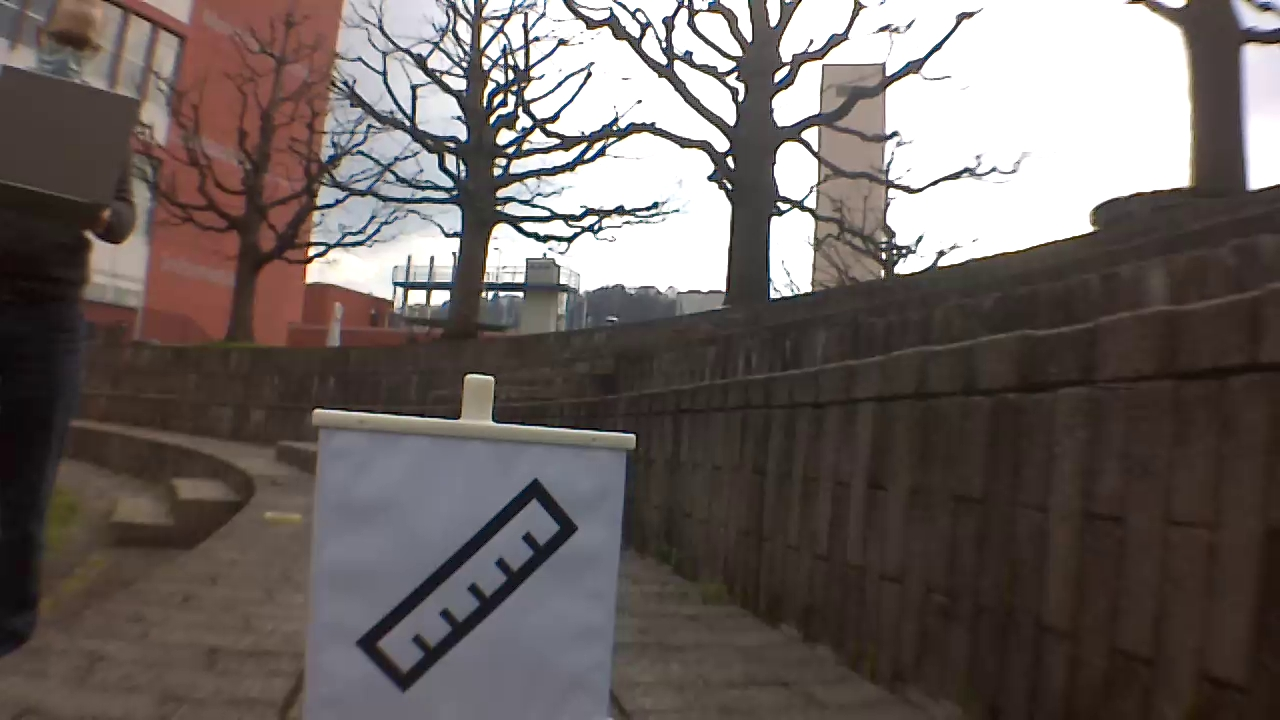ruler: (352, 474, 584, 694)
